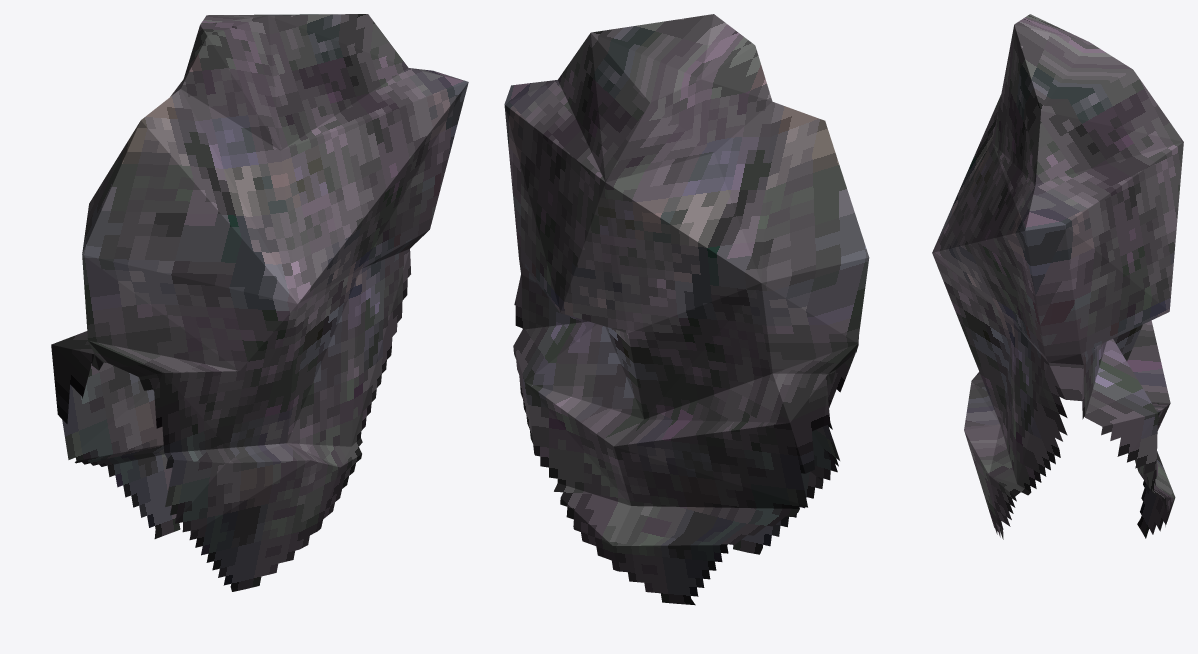
The model's file is shitou_001_3.FBX.
3 renders of one model, left to right at view 1: azimuth 30°, elevation 25°; view 2: azimuth 150°, elevation 25°; view 3: azimuth 270°, elevation 25°, orthographic. The views are drawn at different scales.
Visible parts, largest first — view 1: shitou_001_3; view 2: shitou_001_3; view 3: shitou_001_3.
Boxes of the visible parts, bbox=[...] form: shitou_001_3: bbox=[51, 14, 468, 591]; shitou_001_3: bbox=[504, 14, 869, 605]; shitou_001_3: bbox=[932, 14, 1183, 539].
Bounding box in the file's own units: 68.66 × 89.27 × 37.18.
